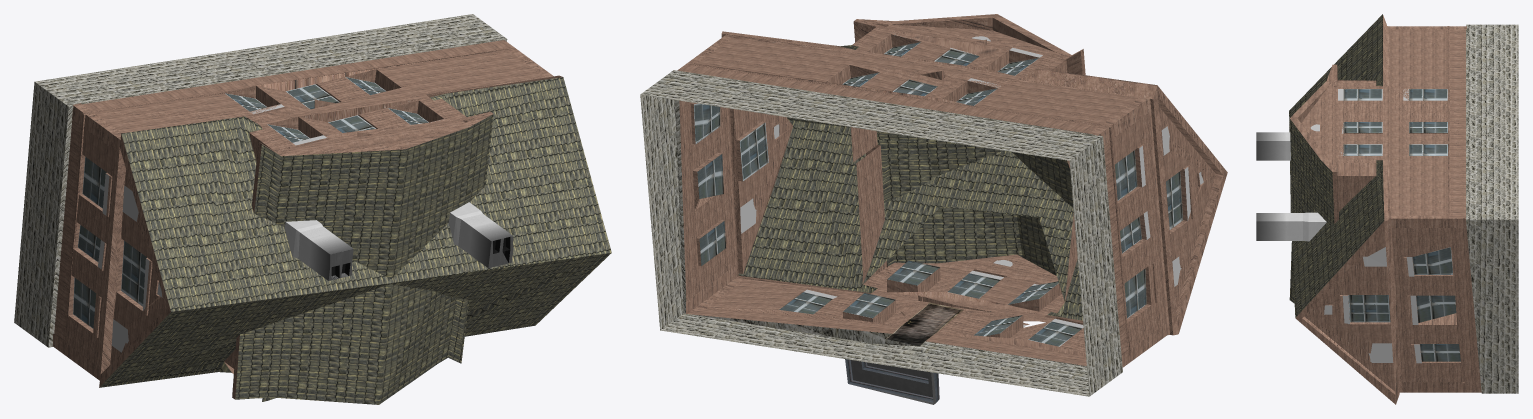
File: Inseneri_2_1-orig.obj
3 views of the same model, side by side, from view 1: azimuth 30°, elevation 25°; view 2: azimuth 150°, elevation 25°; view 3: azimuth 270°, elevation 25° (orthographic). The views are drawn at different scales.
Visible parts, largest first — view 1: Inseneri_2_1; view 2: Inseneri_2_1; view 3: Inseneri_2_1.
Boxes of the visible parts, x1,y1,x2,y2 form: Inseneri_2_1: [14, 14, 611, 404]; Inseneri_2_1: [640, 14, 1227, 404]; Inseneri_2_1: [1256, 14, 1518, 404].
Size of the model in its own units: 18.56 by 12 by 11.78.
